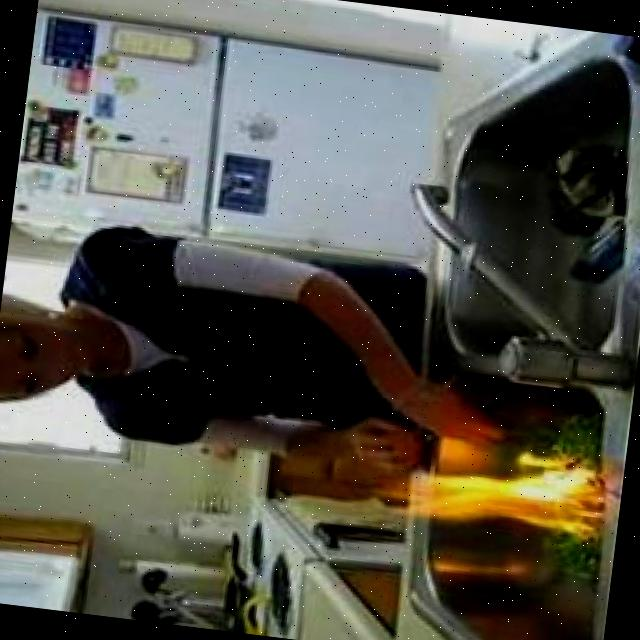fire: (390, 438, 605, 545)
